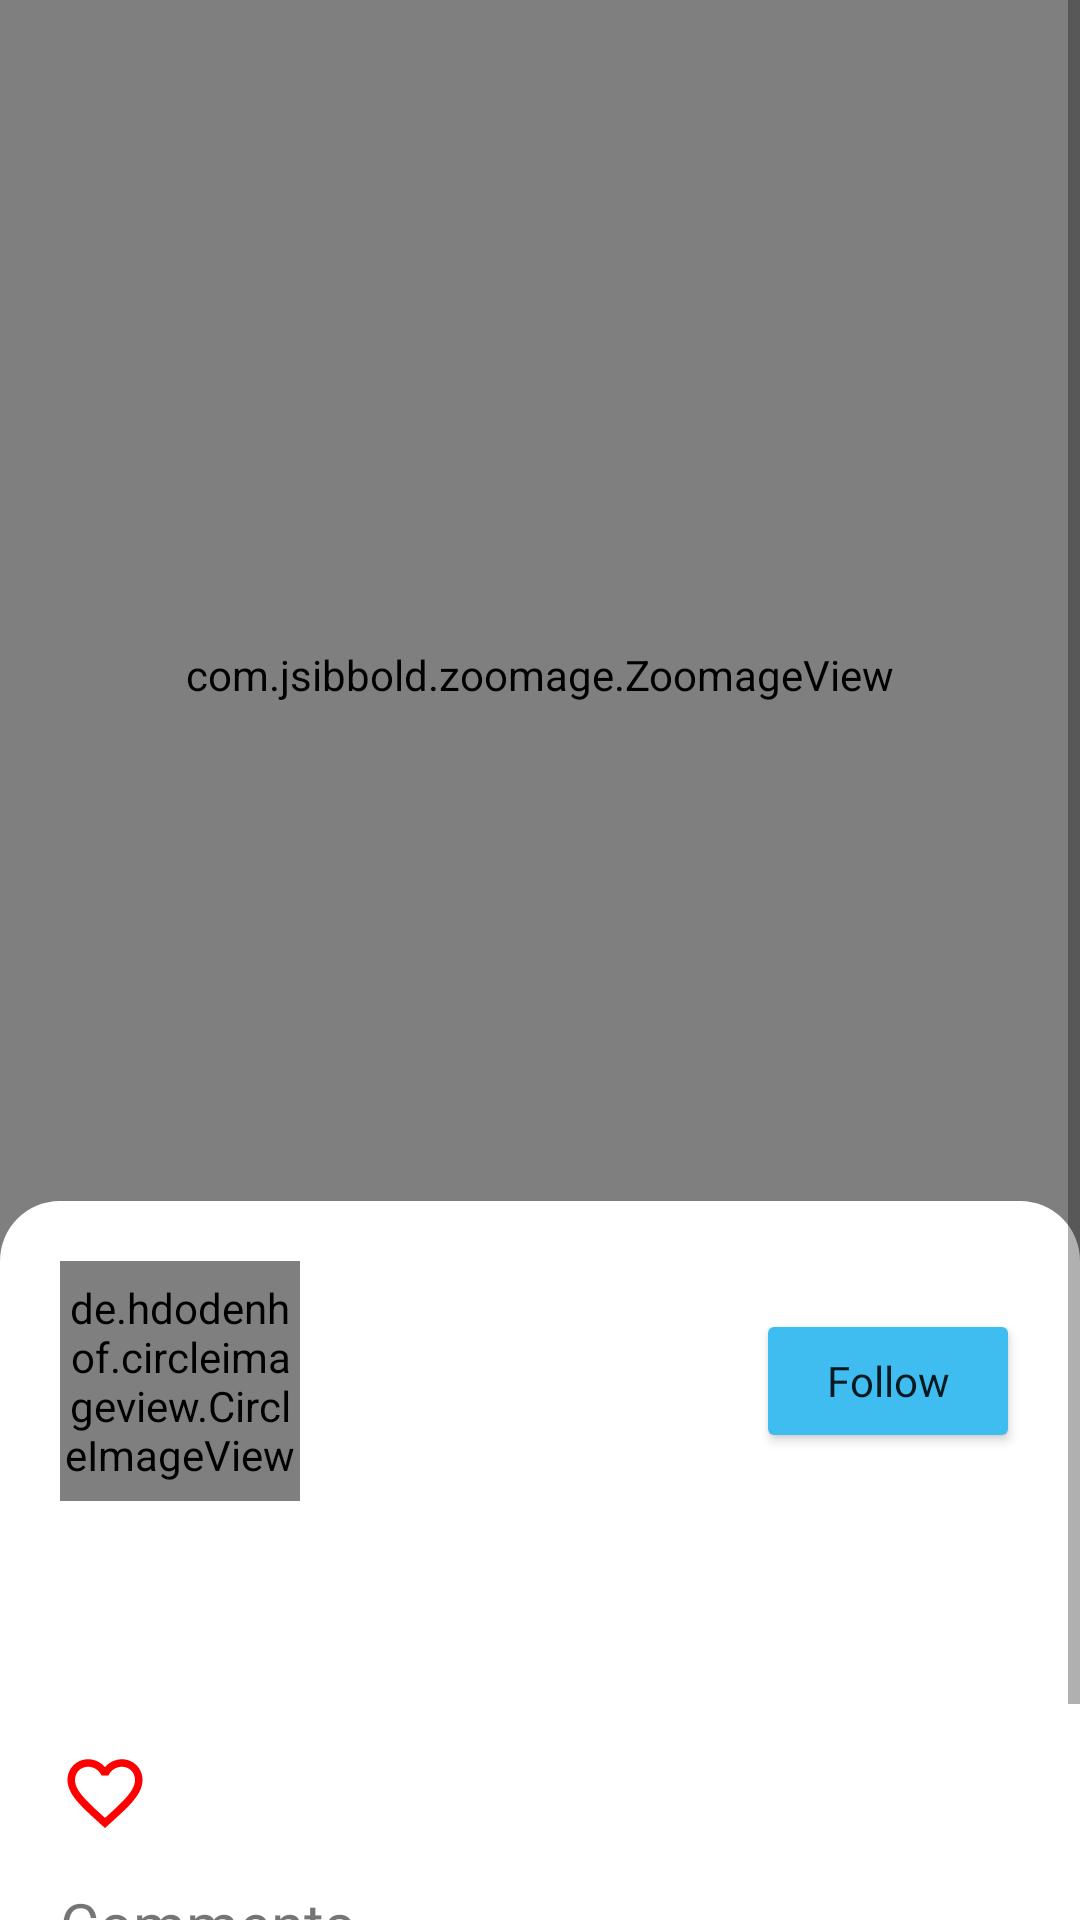

Icons on this 1080x1920 Android screen, each with the point to tap as point (x, y):
favorite border: point (105, 1793)
